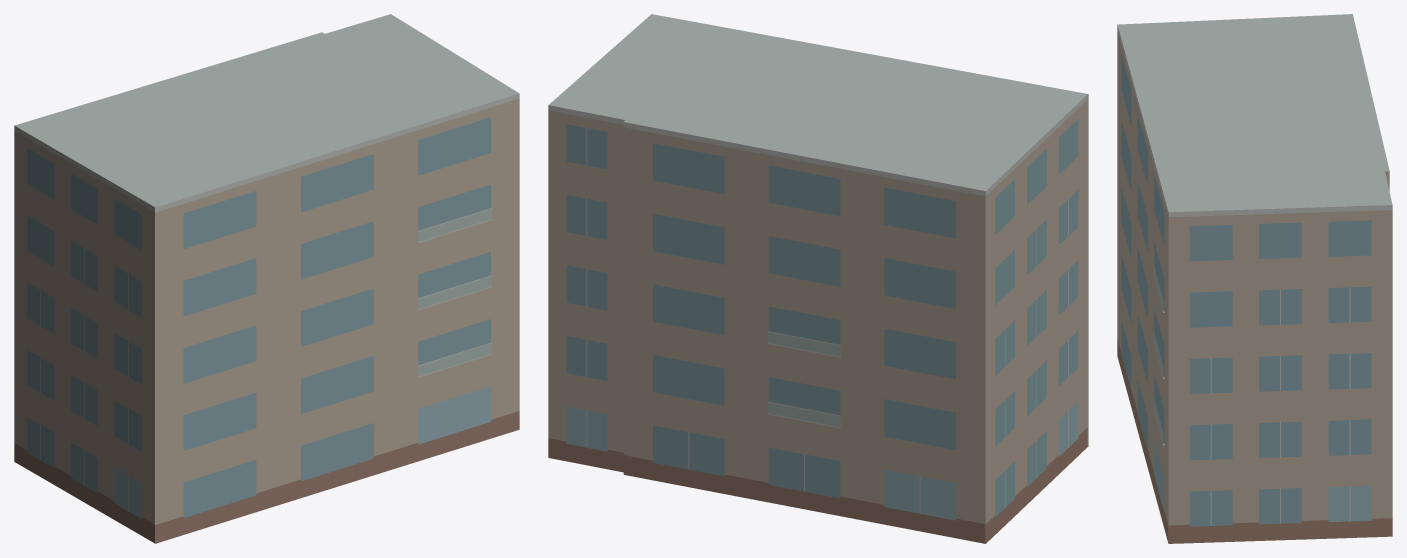
File: survey-upis-32715149.glb
3 views of the same model, side by side, from view 1: azimuth 30°, elevation 25°; view 2: azimuth 150°, elevation 25°; view 3: azimuth 270°, elevation 25° (orthographic). The views are drawn at different scales.
Visible parts, largest first — view 1: survey-upis-32715149.tmp; view 2: survey-upis-32715149.tmp; view 3: survey-upis-32715149.tmp.
Boxes of the visible parts, <box> form: survey-upis-32715149.tmp: <box>14,14,519,543</box>; survey-upis-32715149.tmp: <box>548,14,1088,543</box>; survey-upis-32715149.tmp: <box>1117,14,1392,543</box>.
Size of the model in its own units: 20.85 by 16.25 by 12.23.
